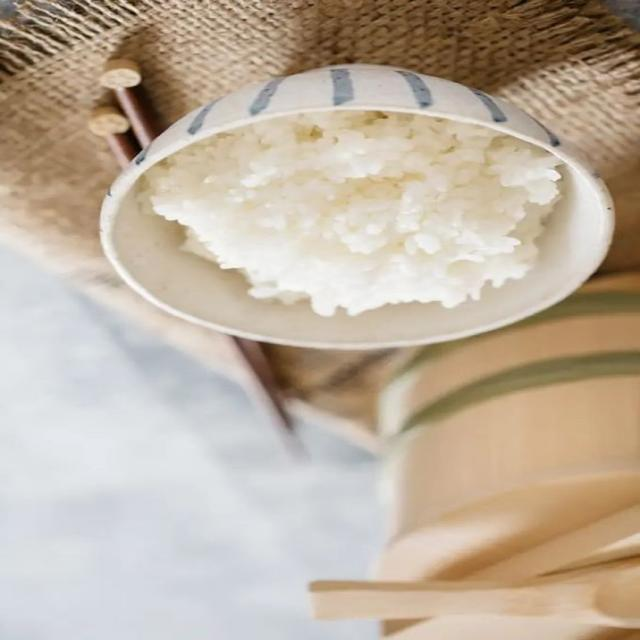nasi_putih: (125, 114, 571, 326)
